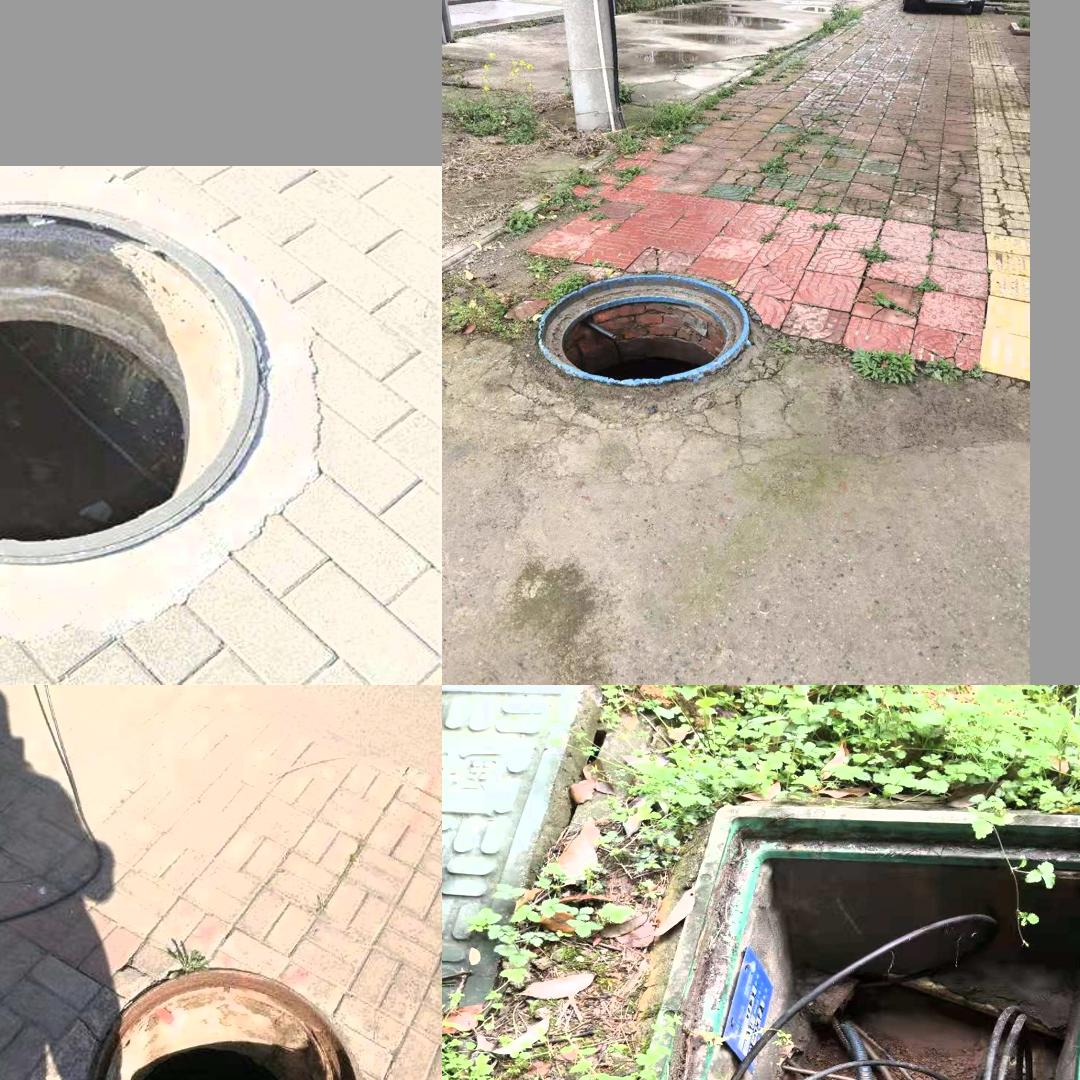lose: (0, 178, 306, 607), (610, 804, 1080, 1080), (86, 959, 374, 1080), (535, 274, 747, 383)
